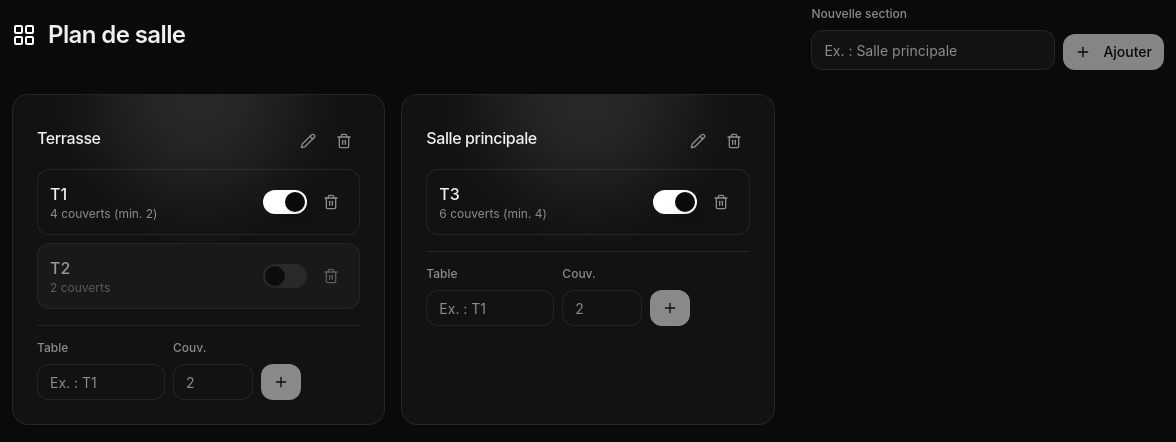
Test: FloorPlanCrud › crée une section
This screenshot has width=1176, height=442.
Check: the heading "Plan de salle" is shown, box [48,19,185,51]
Type "Terrasse couverte" into the field labelled "Nouvelle section" at (933, 50), box [811,30,1055,70]
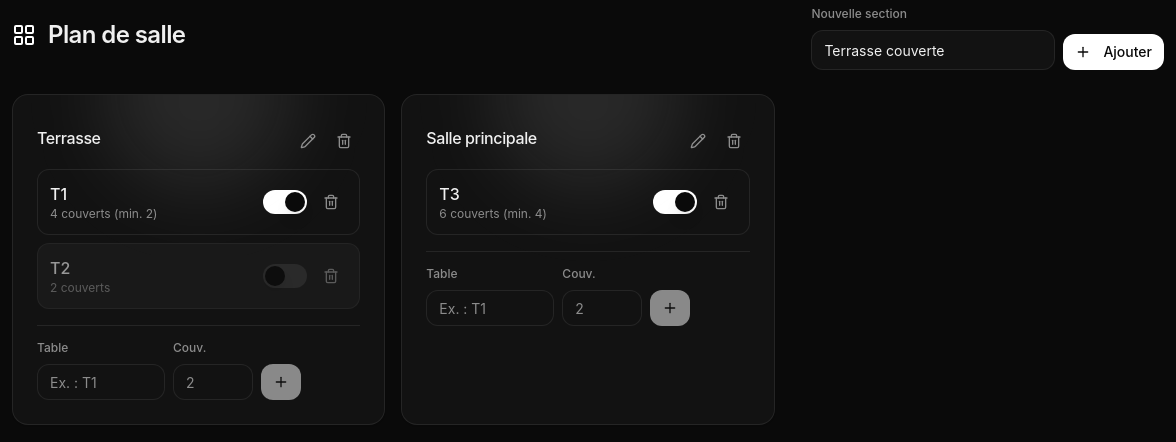
Click the button "Ajouter" at (1114, 52), box [1063,34,1164,70]
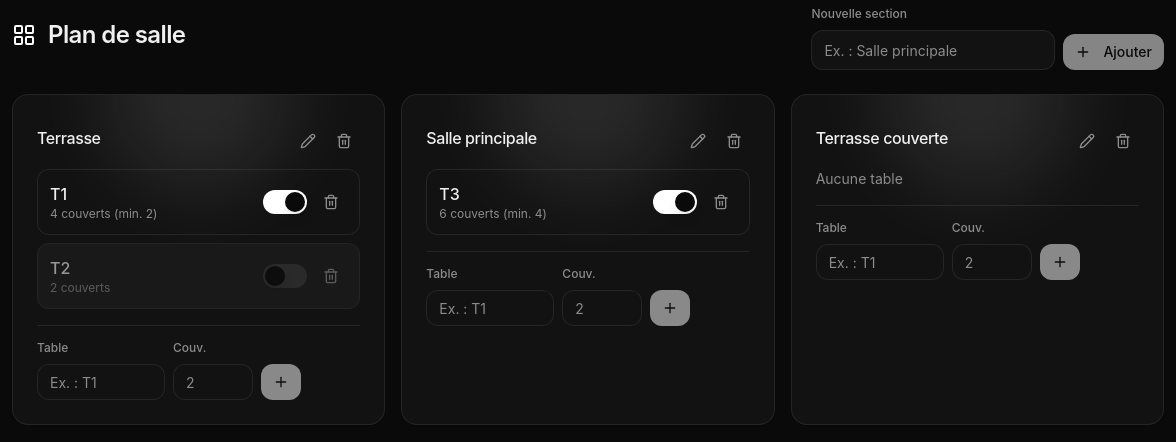
Check: the text "Terrasse couverte" is shown, box [816,126,948,150]
